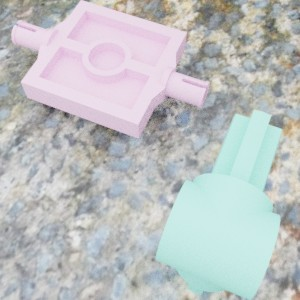lego: (11, 0, 210, 138), (155, 109, 282, 300)
